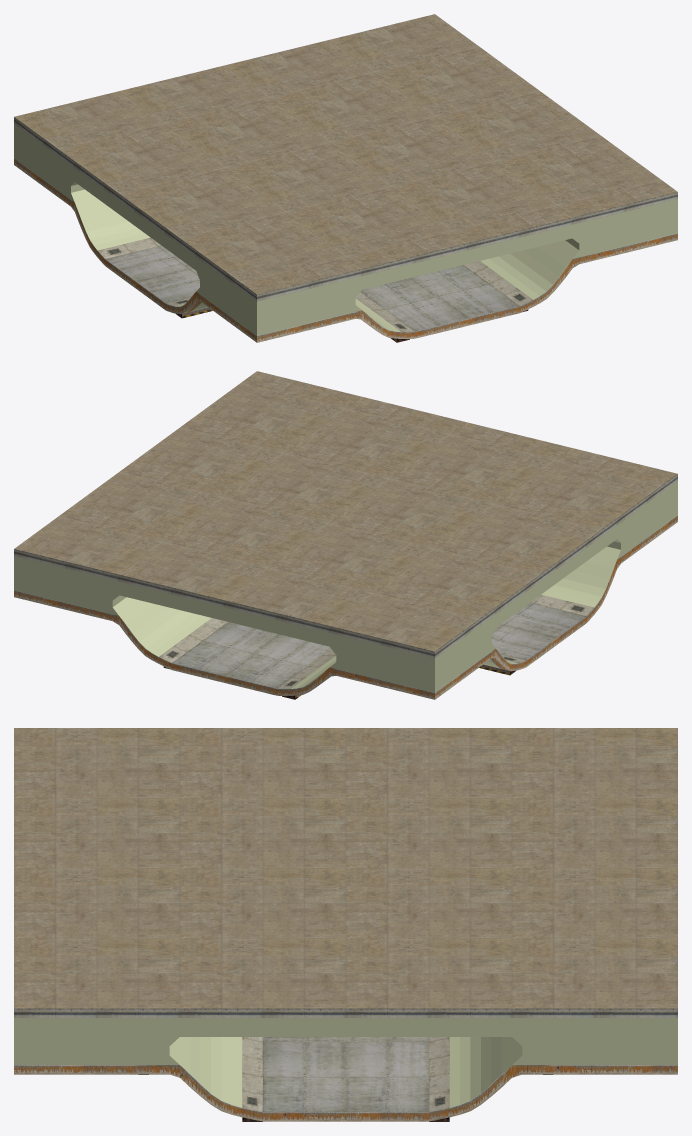
File: PlatformUnitHor_X.fbx
3 views of the same model, one above another, from view 1: azimuth 30°, elevation 25°; view 2: azimuth 150°, elevation 25°; view 3: azimuth 270°, elevation 25° (orthographic). The views are drawn at different scales.
Visible parts, largest first — view 1: PlatformUnitHor_X_Lod0; view 2: PlatformUnitHor_X_Lod0; view 3: PlatformUnitHor_X_Lod0.
Boxes of the visible parts, <box> form: PlatformUnitHor_X_Lod0: <box>14,14,677,342</box>; PlatformUnitHor_X_Lod0: <box>14,371,677,699</box>; PlatformUnitHor_X_Lod0: <box>14,728,677,1121</box>.
Size of the model in its own units: 64.01 by 12.64 by 64.
